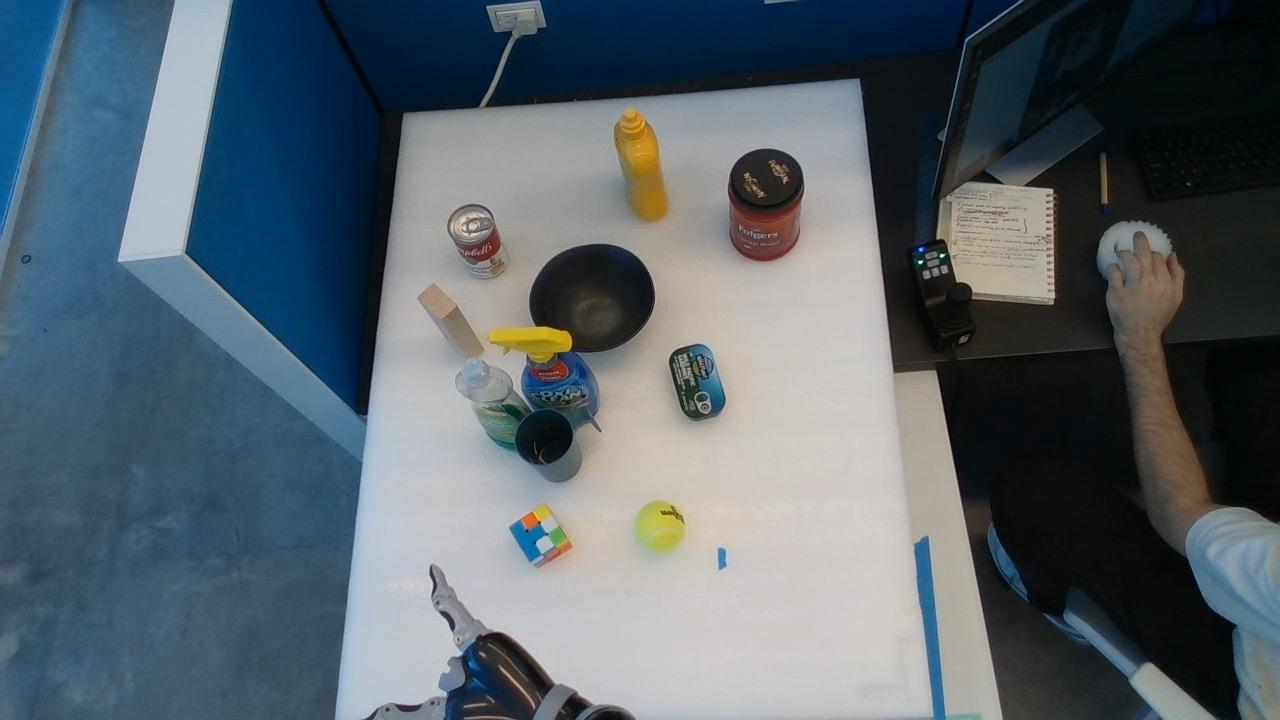bowl: (528, 244, 654, 351)
cleanser: (456, 357, 532, 449)
coffee_can: (729, 148, 802, 259)
jaco: (365, 565, 554, 719)
meat_can: (669, 344, 725, 420)
mug: (516, 409, 581, 481)
mustard_bottle: (615, 108, 666, 220)
rubik: (509, 505, 570, 565)
soup_can: (448, 203, 505, 277)
tennis_ball: (636, 502, 685, 551)
windex: (488, 326, 597, 420)
wooden_block: (417, 283, 482, 355)
workspace: (336, 81, 932, 719)
